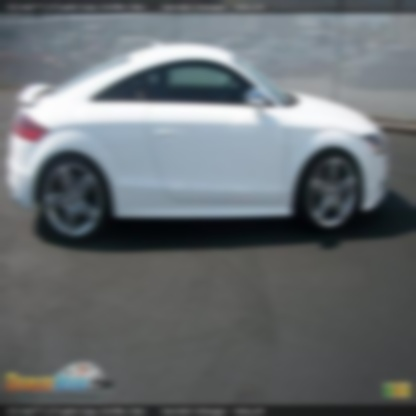Vehicle: (8, 48, 390, 242)
